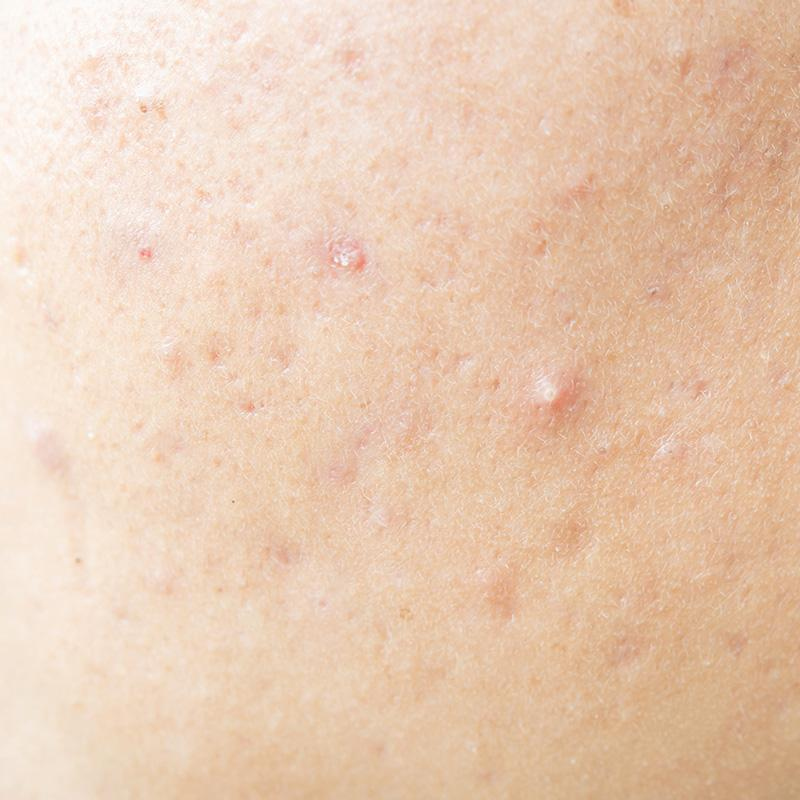blackhead: (65, 537, 107, 593), (132, 86, 174, 137)
purulent: (520, 362, 585, 431)
